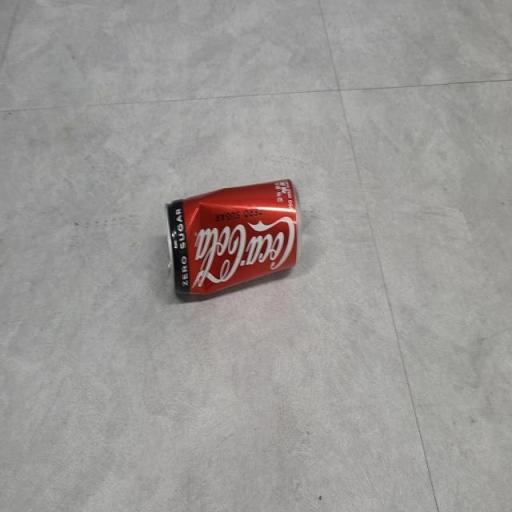metal: (156, 172, 318, 308)
